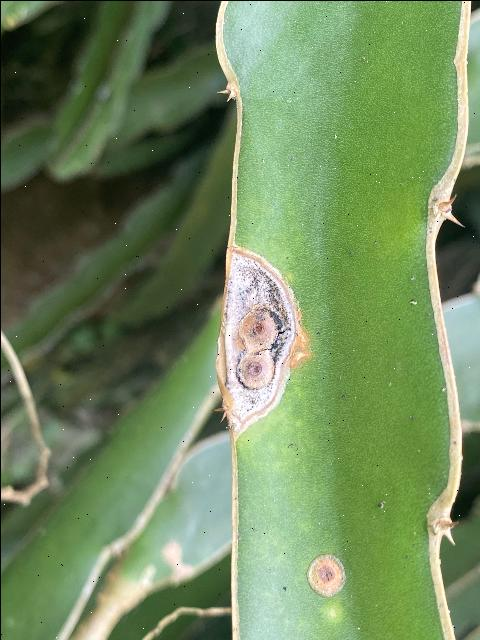stemcanker: (214, 238, 309, 438), (304, 550, 350, 601)
